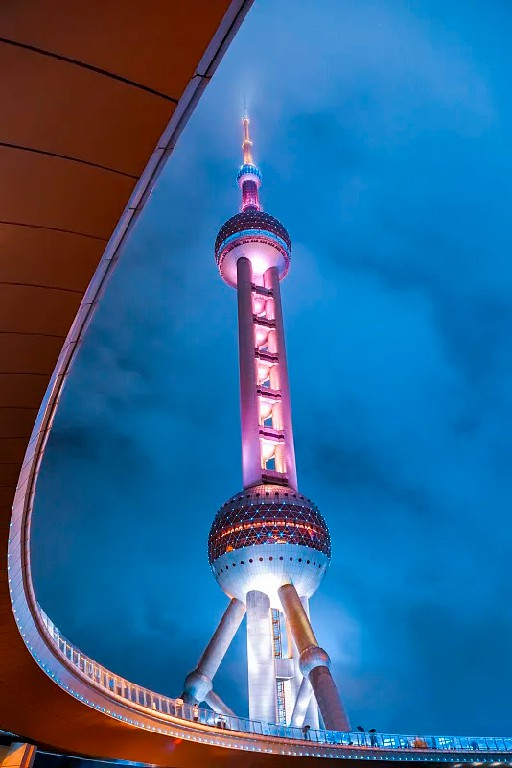Oriental: (183, 99, 349, 731)
